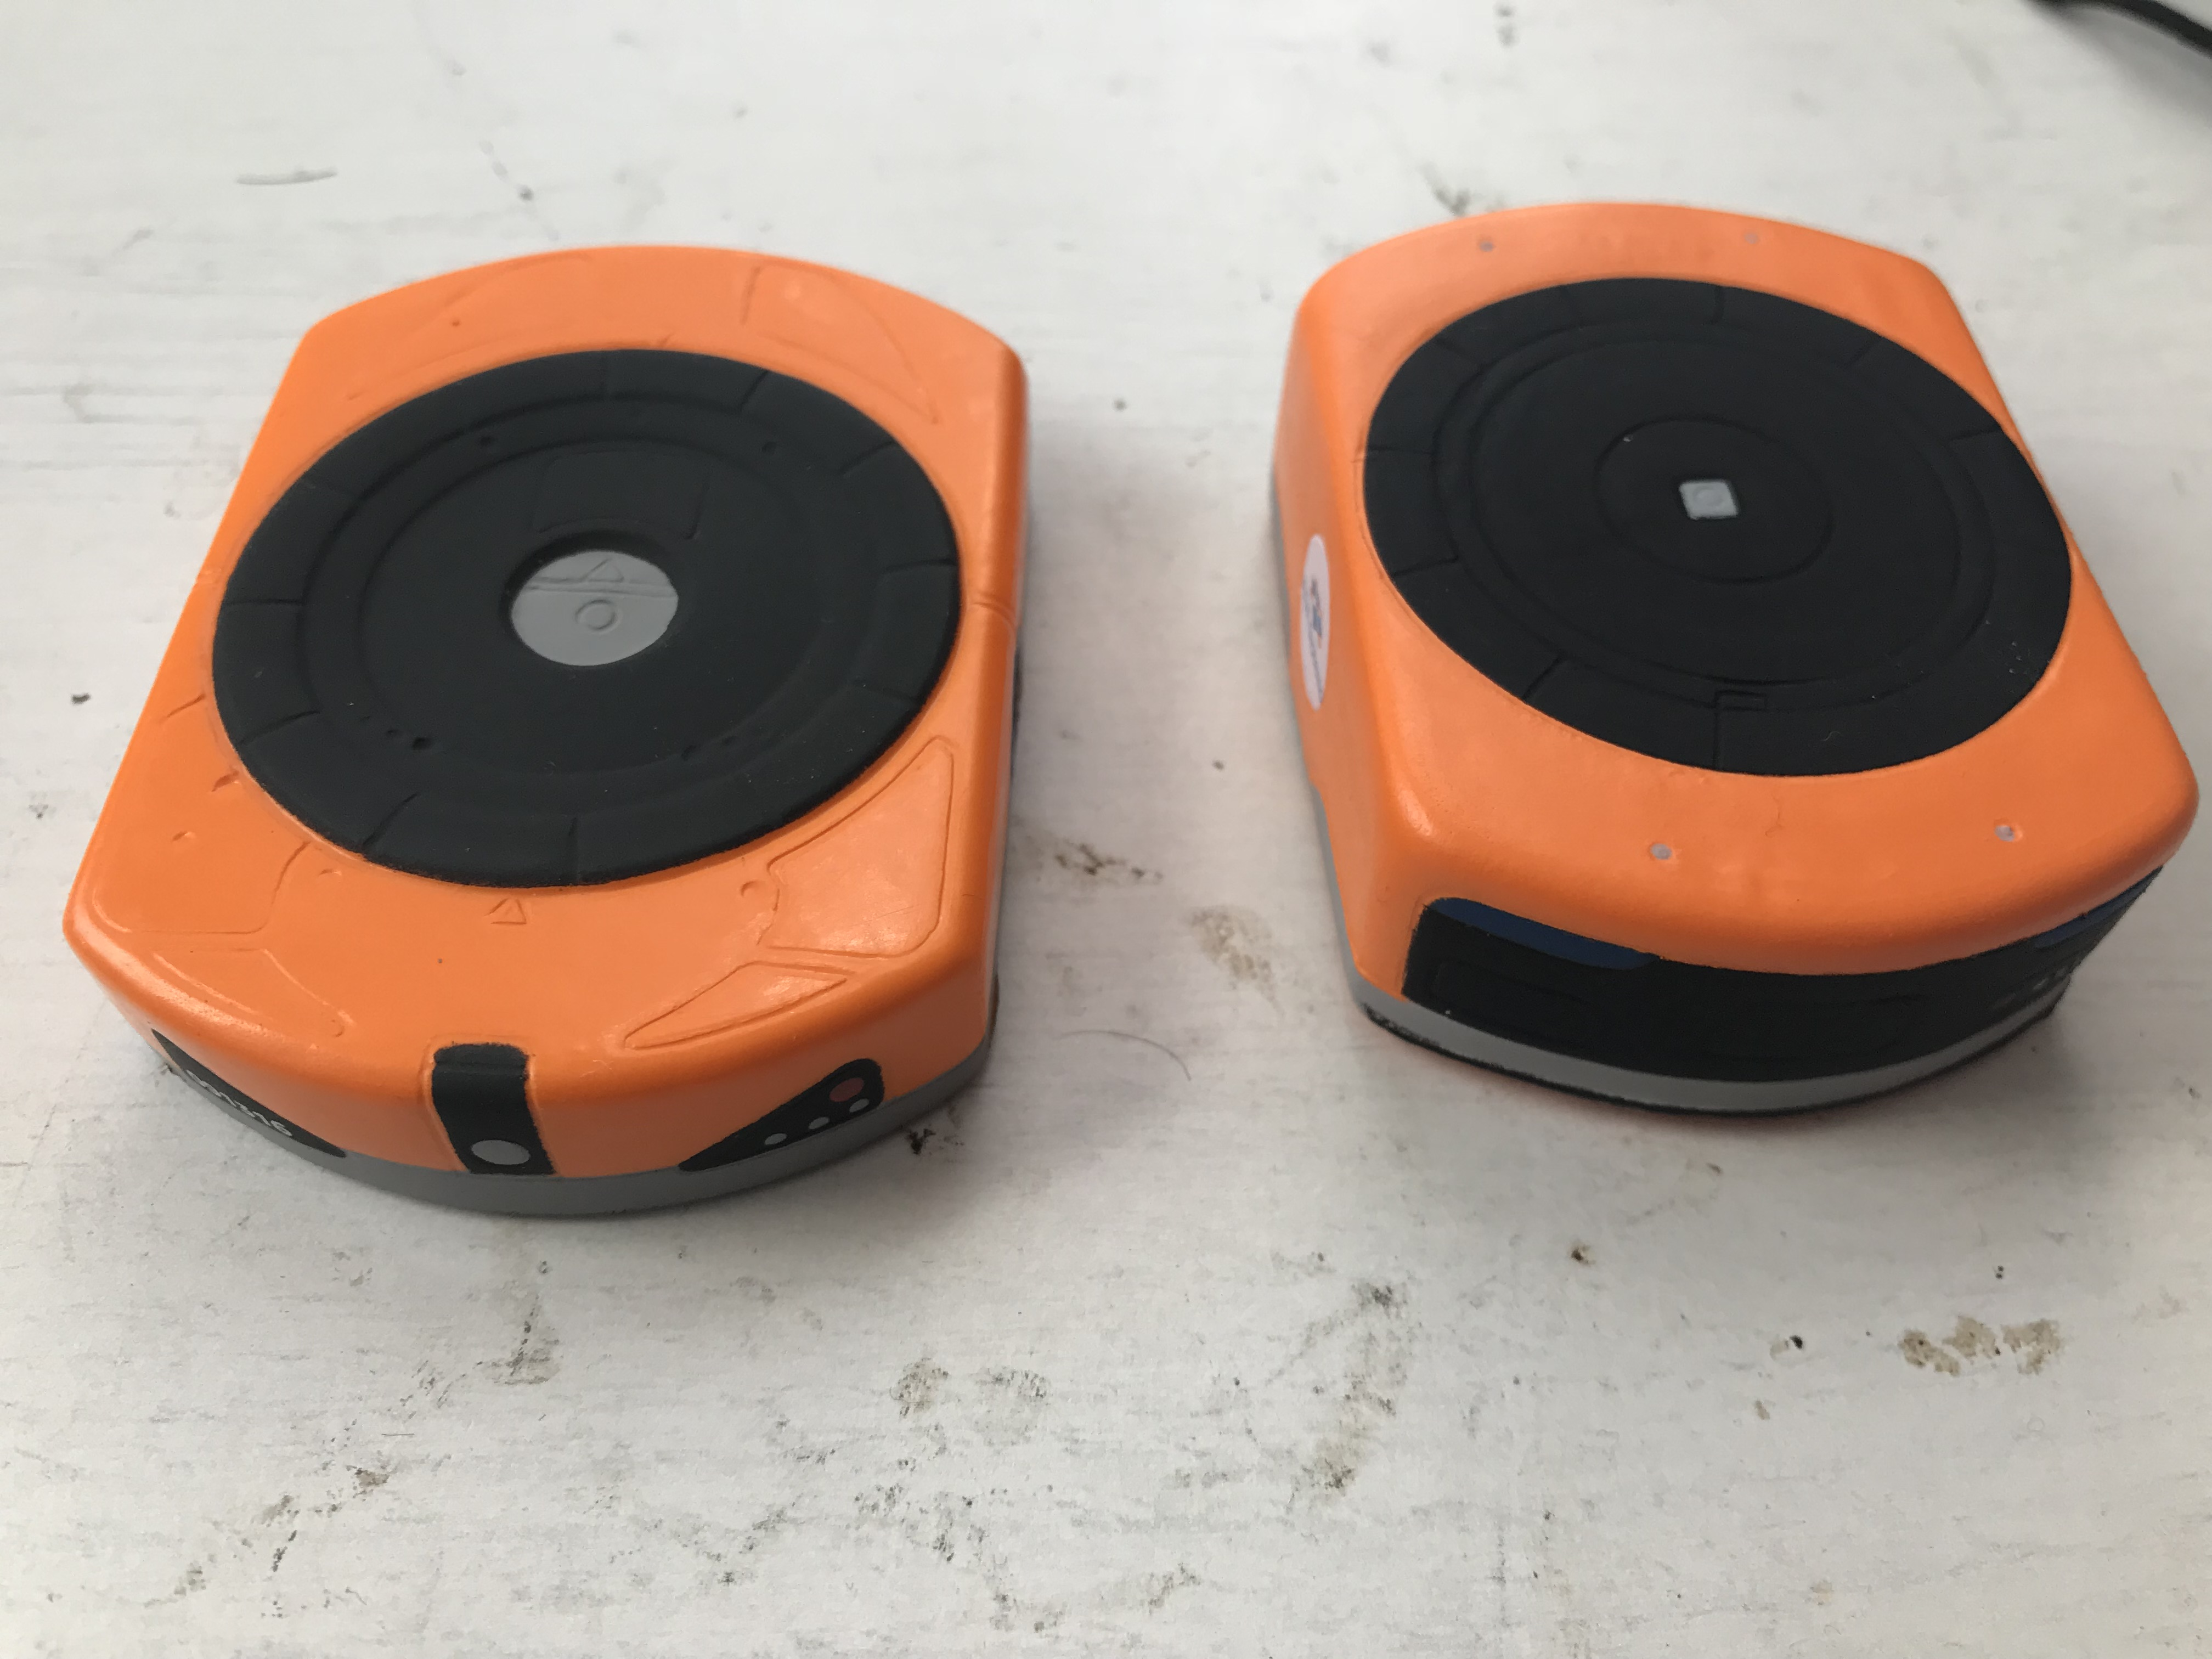amazon_bot: (35, 234, 1059, 1246), (1244, 174, 2212, 1136)
